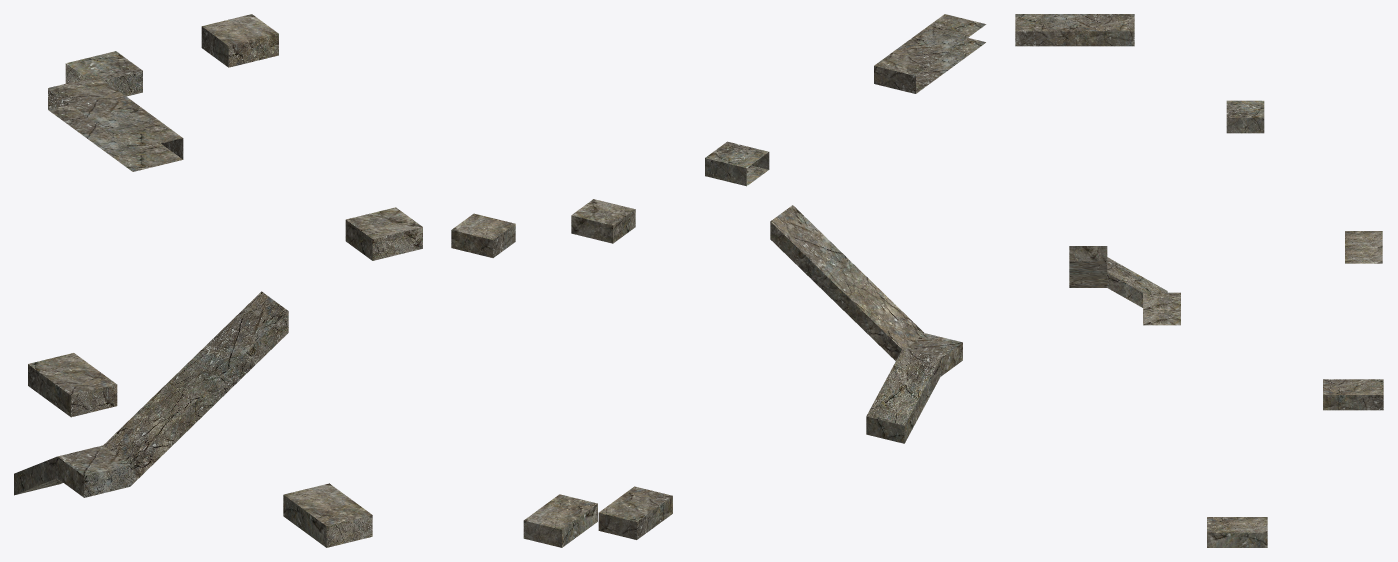
The model's file is madPlats.obj.
3 views of the same model, side by side, from view 1: azimuth 30°, elevation 25°; view 2: azimuth 150°, elevation 25°; view 3: azimuth 270°, elevation 25° (orthographic). The views are drawn at different scales.
Parts seen in each view (by area): view 1: madPlats; view 2: madPlats; view 3: madPlats.
Part boxes in pixels (left/top/right/bottom): madPlats: left=14, top=14, right=422, bottom=547; madPlats: left=451, top=14, right=986, bottom=547; madPlats: left=1015, top=14, right=1383, bottom=547.
Size of the model in its own units: 10.83 by 15.29 by 12.59.
1 material, 1 textured.
